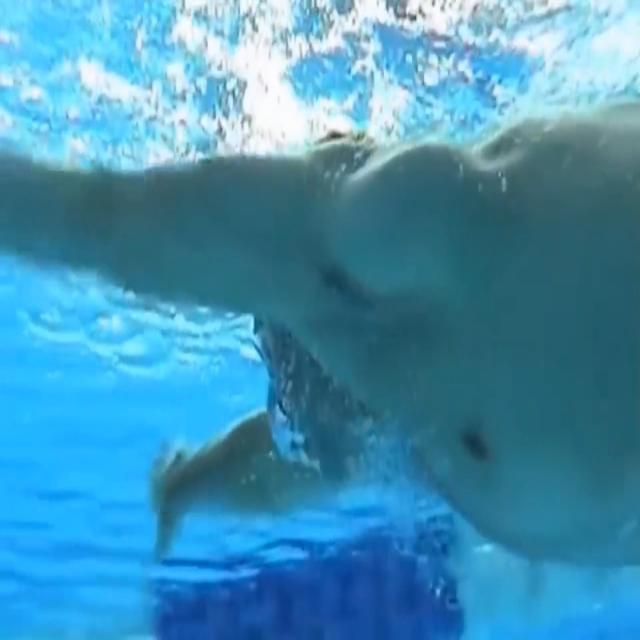Swimming: (236, 104, 640, 571)
